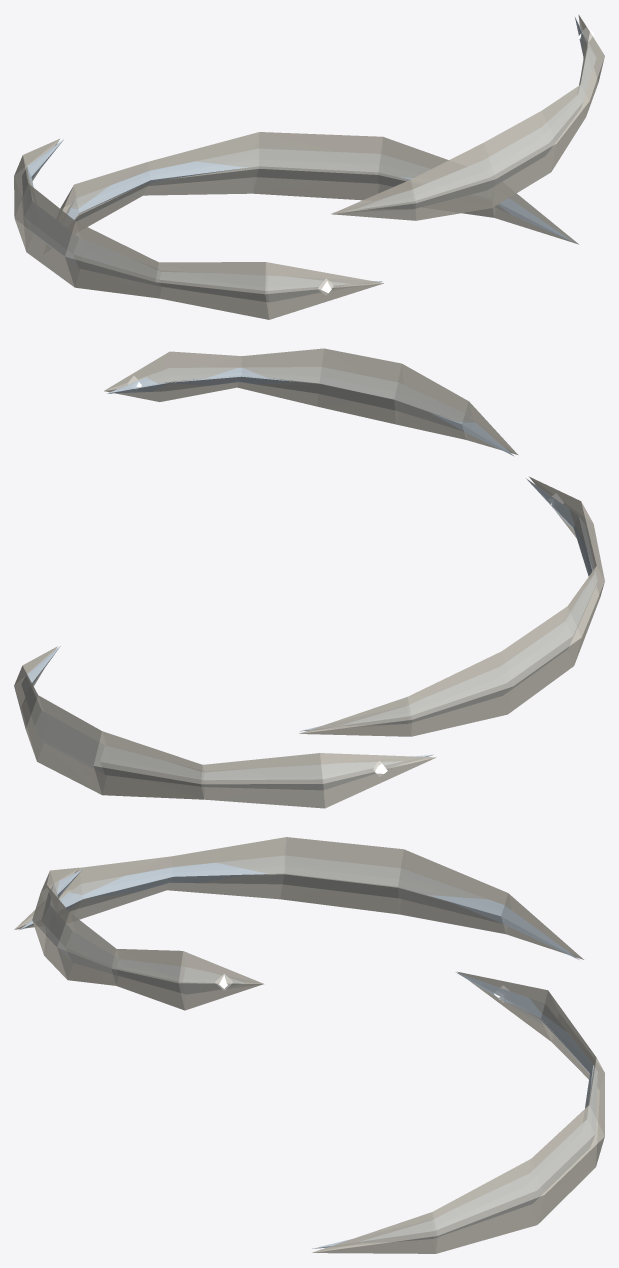
File: EliteAura_Swift.fbx
3 renders of one model, top to bottom at view 1: azimuth 30°, elevation 25°; view 2: azimuth 150°, elevation 25°; view 3: azimuth 270°, elevation 25°, orthographic. The views are drawn at different scales.
Visible parts, largest first — view 1: Streaks, StreakCores; view 2: Streaks, StreakCores; view 3: Streaks, StreakCores.
Part boxes in pixels (left/top/right/bottom): Streaks: left=14, top=14, right=604, bottom=319; StreakCores: left=22, top=17, right=595, bottom=301; Streaks: left=14, top=348, right=604, bottom=808; StreakCores: left=21, top=367, right=597, bottom=789; Streaks: left=14, top=837, right=604, bottom=1253; StreakCores: left=19, top=856, right=597, bottom=1248.
Size of the model in its own units: 3.82 by 1.99 by 3.65.
